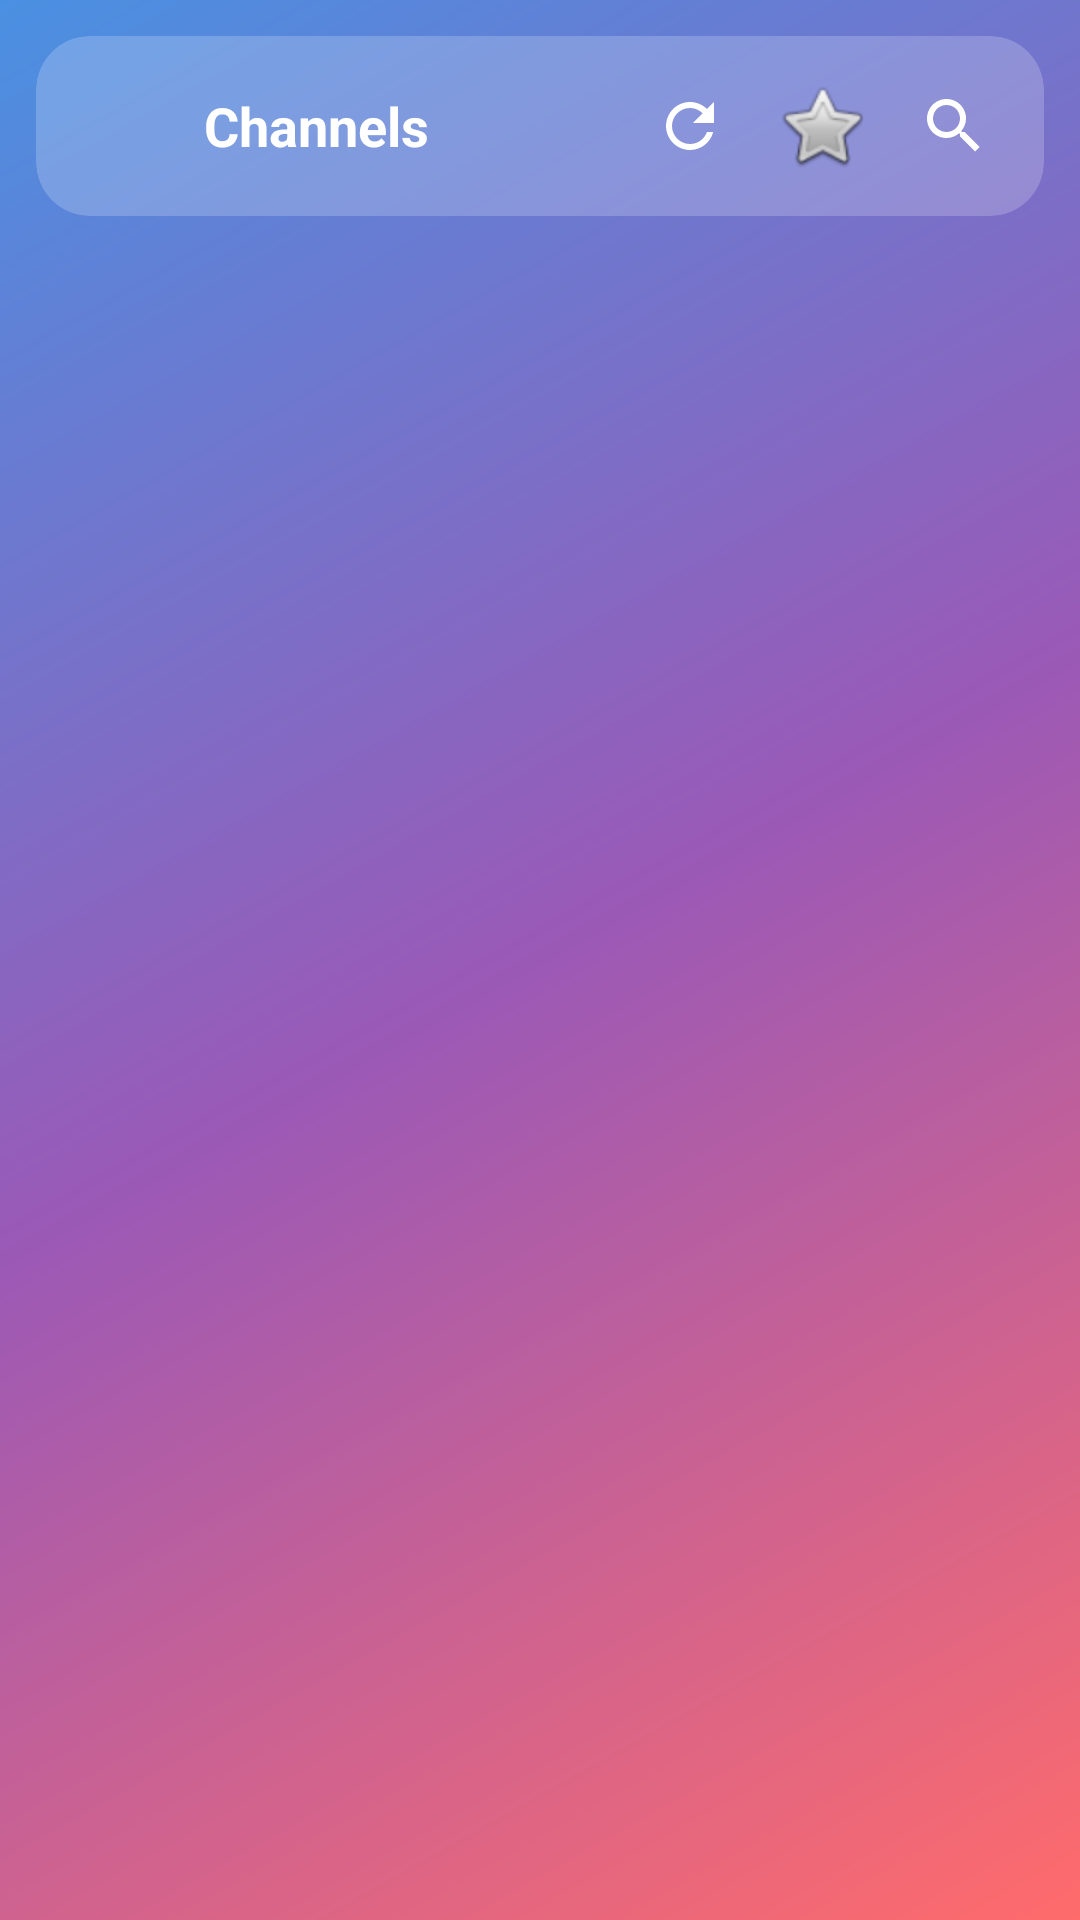

Where icons sit on this 1080 x 1920 app screen, as (x1, y1, x2, y2):
refresh: (666, 102, 714, 150)
star off: (783, 88, 863, 166)
